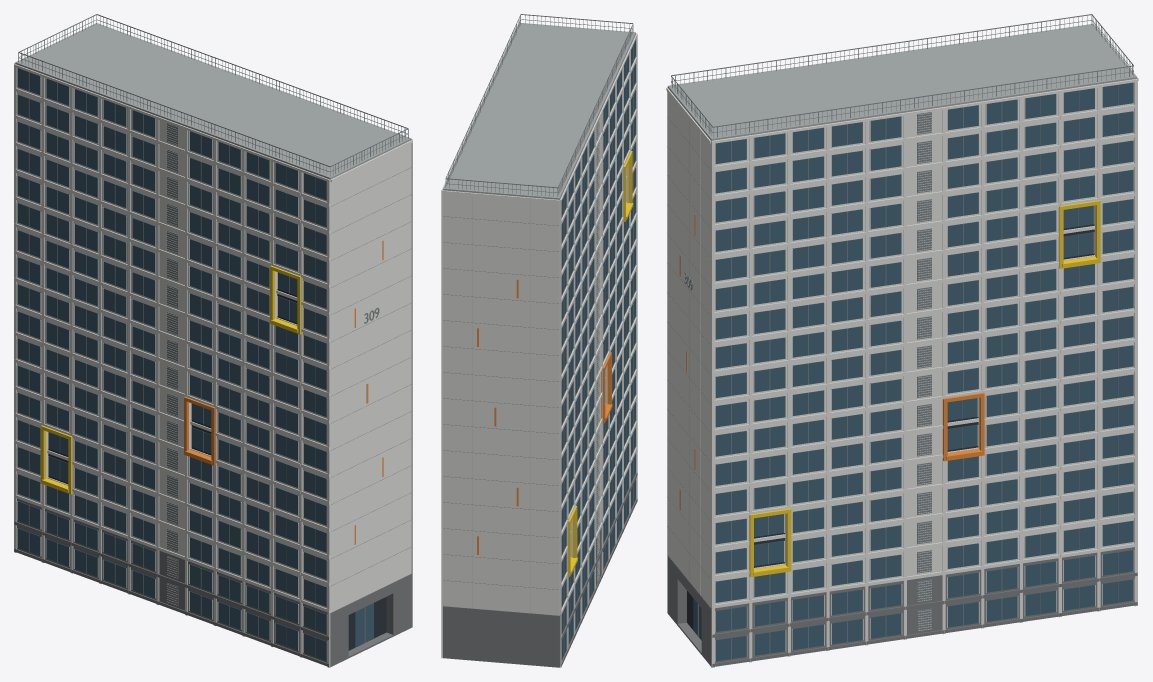
The model's file is bespoke-songpa-helio-city-309.glb.
The picture shows the model from 3 angles, left to right: view 1: azimuth 30°, elevation 25°; view 2: azimuth 150°, elevation 25°; view 3: azimuth 270°, elevation 25°; orthographic projection. The views are drawn at different scales.
Parts seen in each view (by area): view 1: Helio309_editable_Helio309_white_slab_frames, Helio309_editable_Helio309_dark_blue_grey_glazing, Helio309_editable_Helio309_low_roof_deck, Helio309_editable_Helio309_grey_service_grille, Helio309_editable_Helio309_dark_grey_twofloor_base, Helio309_editable_Helio309_blankwall_grey_panels, Helio309_editable_Helio309_yellow_projecting_rectangular_fra, Helio309_editable_Helio309_deep_shaded_frame_recess, Helio309_editable_Helio309_orange_narrow_accent; view 2: Helio309_editable_Helio309_white_slab_frames, Helio309_editable_Helio309_low_roof_deck, Helio309_editable_Helio309_dark_blue_grey_glazing, Helio309_editable_Helio309_grey_service_grille, Helio309_editable_Helio309_dark_grey_twofloor_base, Helio309_editable_Helio309_blankwall_grey_panels, Helio309_editable_Helio309_yellow_projecting_rectangular_fra, Helio309_editable_Helio309_orange_narrow_accent; view 3: Helio309_editable_Helio309_dark_blue_grey_glazing, Helio309_editable_Helio309_white_slab_frames, Helio309_editable_Helio309_low_roof_deck, Helio309_editable_Helio309_grey_service_grille, Helio309_editable_Helio309_dark_grey_twofloor_base, Helio309_editable_Helio309_blankwall_grey_panels, Helio309_editable_Helio309_yellow_projecting_rectangular_fra, Helio309_editable_Helio309_orange_narrow_accent, Helio309_editable_Helio309_deep_shaded_frame_recess.
Boxes of the visible parts, x1=… form: Helio309_editable_Helio309_white_slab_frames: x1=14, y1=63, x2=412, y2=667; Helio309_editable_Helio309_dark_blue_grey_glazing: x1=17, y1=68, x2=373, y2=660; Helio309_editable_Helio309_low_roof_deck: x1=15, y1=23, x2=411, y2=179; Helio309_editable_Helio309_grey_service_grille: x1=18, y1=14, x2=411, y2=657; Helio309_editable_Helio309_dark_grey_twofloor_base: x1=14, y1=498, x2=411, y2=667; Helio309_editable_Helio309_blankwall_grey_panels: x1=167, y1=123, x2=177, y2=605; Helio309_editable_Helio309_yellow_projecting_rectangular_fra: x1=40, y1=265, x2=301, y2=494; Helio309_editable_Helio309_deep_shaded_frame_recess: x1=48, y1=289, x2=386, y2=650; Helio309_editable_Helio309_orange_narrow_accent: x1=184, y1=240, x2=383, y2=544; Helio309_editable_Helio309_white_slab_frames: x1=441, y1=24, x2=637, y2=667; Helio309_editable_Helio309_low_roof_deck: x1=443, y1=23, x2=635, y2=199; Helio309_editable_Helio309_dark_blue_grey_glazing: x1=561, y1=40, x2=635, y2=659; Helio309_editable_Helio309_grey_service_grille: x1=443, y1=14, x2=633, y2=654; Helio309_editable_Helio309_dark_grey_twofloor_base: x1=443, y1=467, x2=637, y2=667; Helio309_editable_Helio309_blankwall_grey_panels: x1=472, y1=119, x2=599, y2=612; Helio309_editable_Helio309_yellow_projecting_rectangular_fra: x1=566, y1=151, x2=633, y2=576; Helio309_editable_Helio309_orange_narrow_accent: x1=477, y1=279, x2=612, y2=554; Helio309_editable_Helio309_dark_blue_grey_glazing: x1=693, y1=82, x2=1133, y2=661; Helio309_editable_Helio309_white_slab_frames: x1=666, y1=25, x2=1138, y2=667; Helio309_editable_Helio309_low_roof_deck: x1=668, y1=24, x2=1136, y2=140; Helio309_editable_Helio309_grey_service_grille: x1=667, y1=14, x2=1133, y2=659; Helio309_editable_Helio309_dark_grey_twofloor_base: x1=668, y1=547, x2=1137, y2=666; Helio309_editable_Helio309_blankwall_grey_panels: x1=689, y1=112, x2=931, y2=630; Helio309_editable_Helio309_yellow_projecting_rectangular_fra: x1=749, y1=200, x2=1100, y2=577; Helio309_editable_Helio309_orange_narrow_accent: x1=679, y1=215, x2=984, y2=510; Helio309_editable_Helio309_deep_shaded_frame_recess: x1=687, y1=205, x2=1094, y2=629.
Size of the model in its own units: 23.91 by 51.4 by 40.84.
